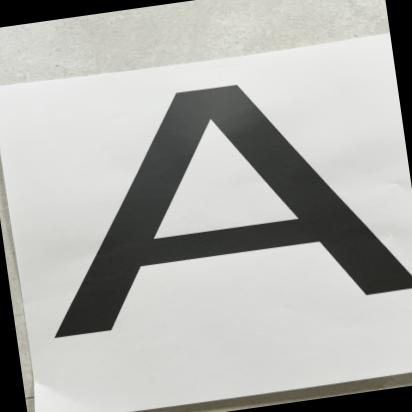seat: (25, 42, 412, 375)
